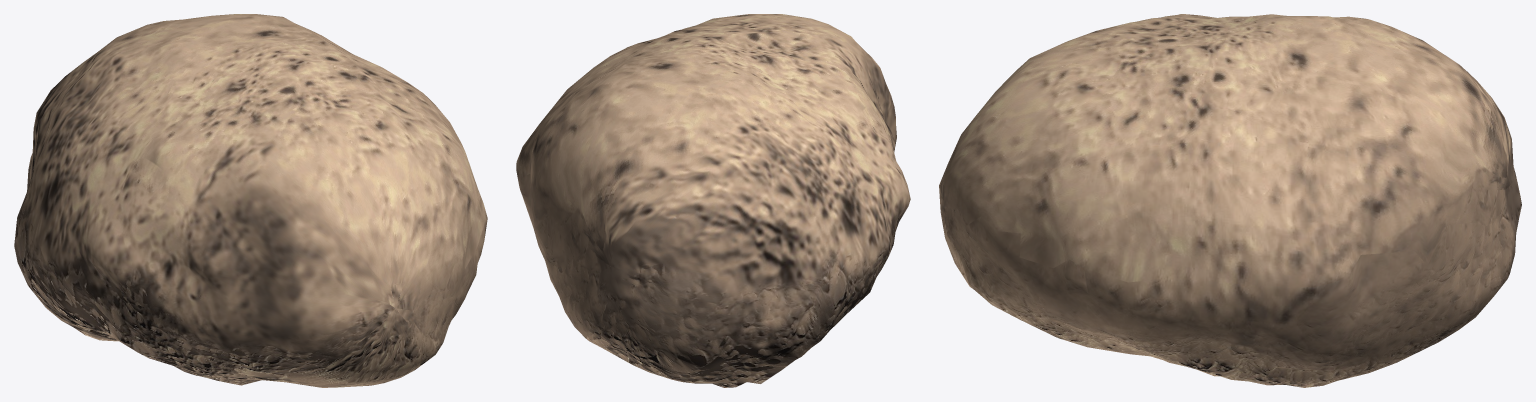
Rendered from hyperion - thumbnail.dae.
3 renders of one model, left to right at view 1: azimuth 30°, elevation 25°; view 2: azimuth 150°, elevation 25°; view 3: azimuth 270°, elevation 25°, orthographic. The views are drawn at different scales.
Parts seen in each view (by area): view 1: obj_0; view 2: obj_0; view 3: obj_0.
Boxes of the visible parts, left/top/right/bottom form: obj_0: left=14, top=14, right=487, bottom=387; obj_0: left=516, top=14, right=910, bottom=387; obj_0: left=939, top=14, right=1521, bottom=387.
Bounding box in the file's own units: 2.76 × 3.42 × 2.09.
1 material, 1 textured.
